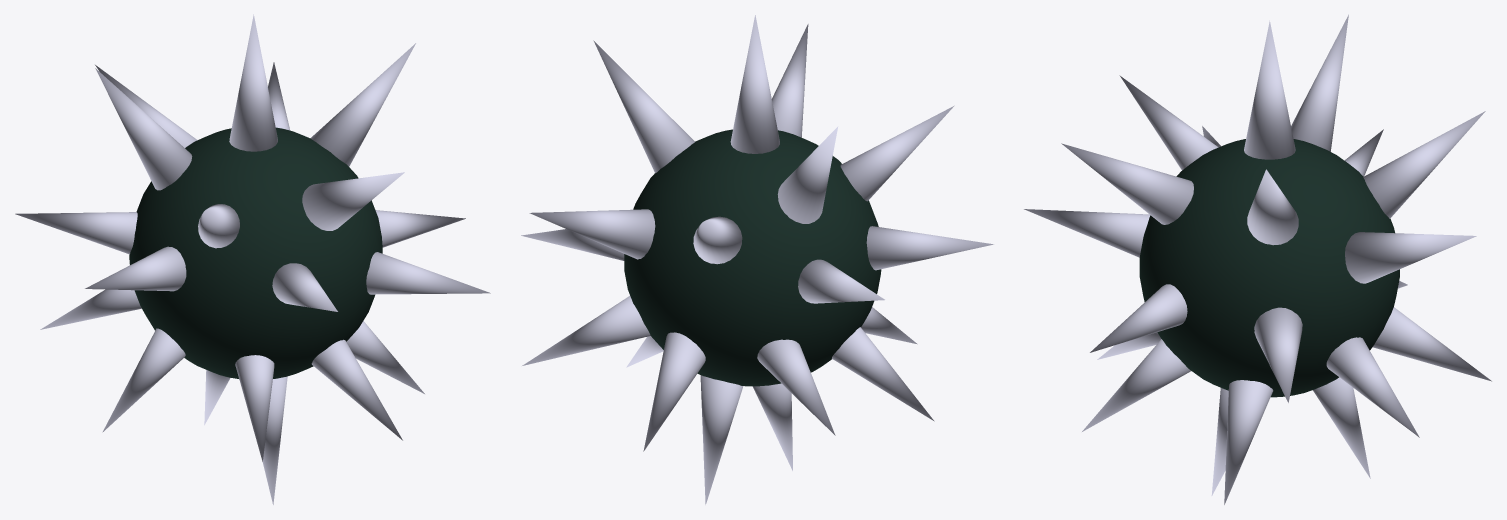
Rendered from neadl.fbx.
The picture shows the model from 3 angles, left to right: view 1: azimuth 30°, elevation 25°; view 2: azimuth 150°, elevation 25°; view 3: azimuth 270°, elevation 25°; orthographic projection. The views are drawn at different scales.
Parts seen in each view (by area): view 1: 球; view 2: 球; view 3: 球.
Boxes of the visible parts, x1,y1,x2,y2 form: 球: (15,14,490,504); 球: (521,15,993,504); 球: (1024,14,1491,504).
Bounding box in the file's own units: 385 × 406 × 360.
